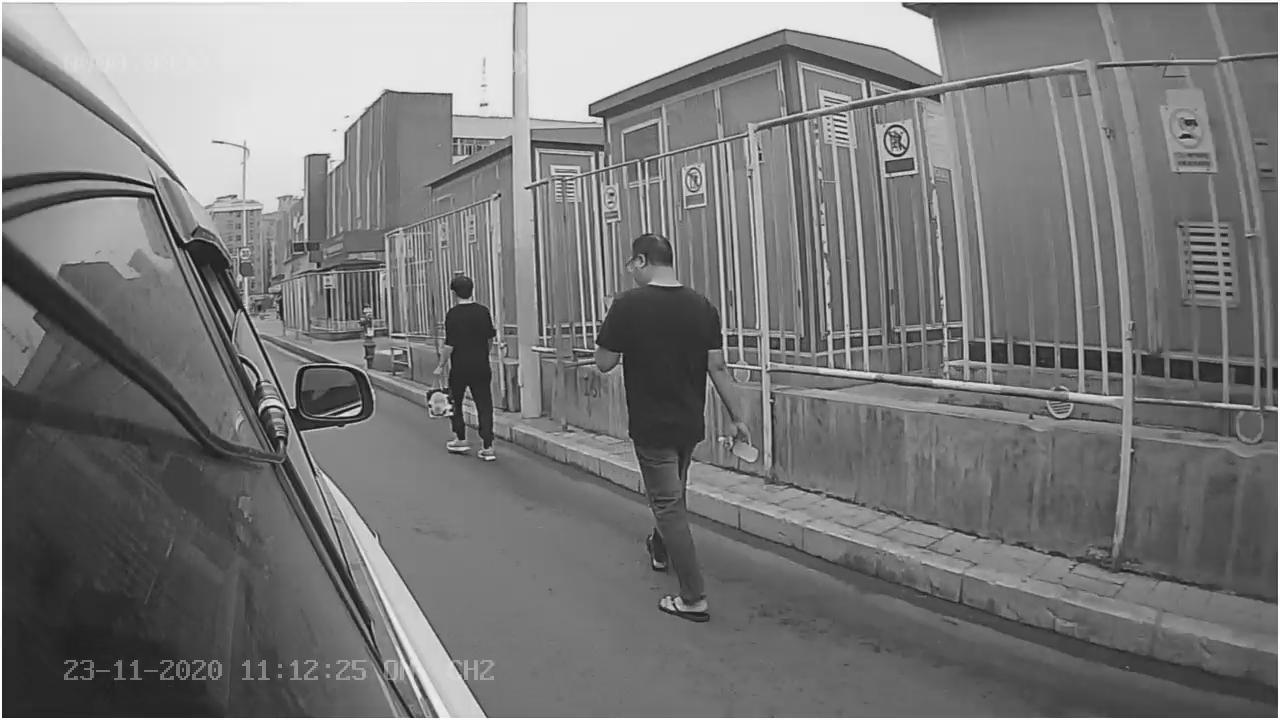person: (596, 239, 757, 621)
